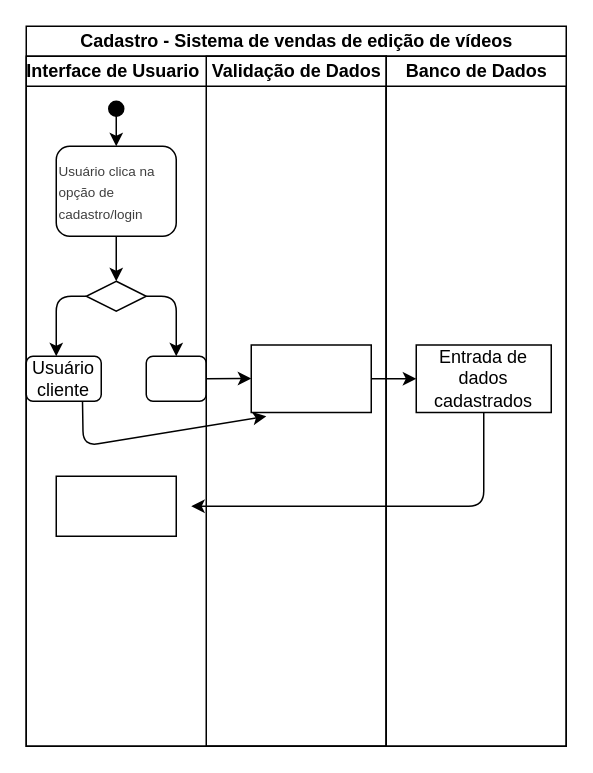
Some shapes in this 593 by 773 pixel diagram are drawn without their labels. The centre of each missing label's shape, as x and y in pixels:
"Interface para o respectivo tipo de usuário" belongs at point 115,505.
"Usuário Editor" belongs at point 175,378.
"Valida entrada como editor ou cliente" belongs at point 310,378.
